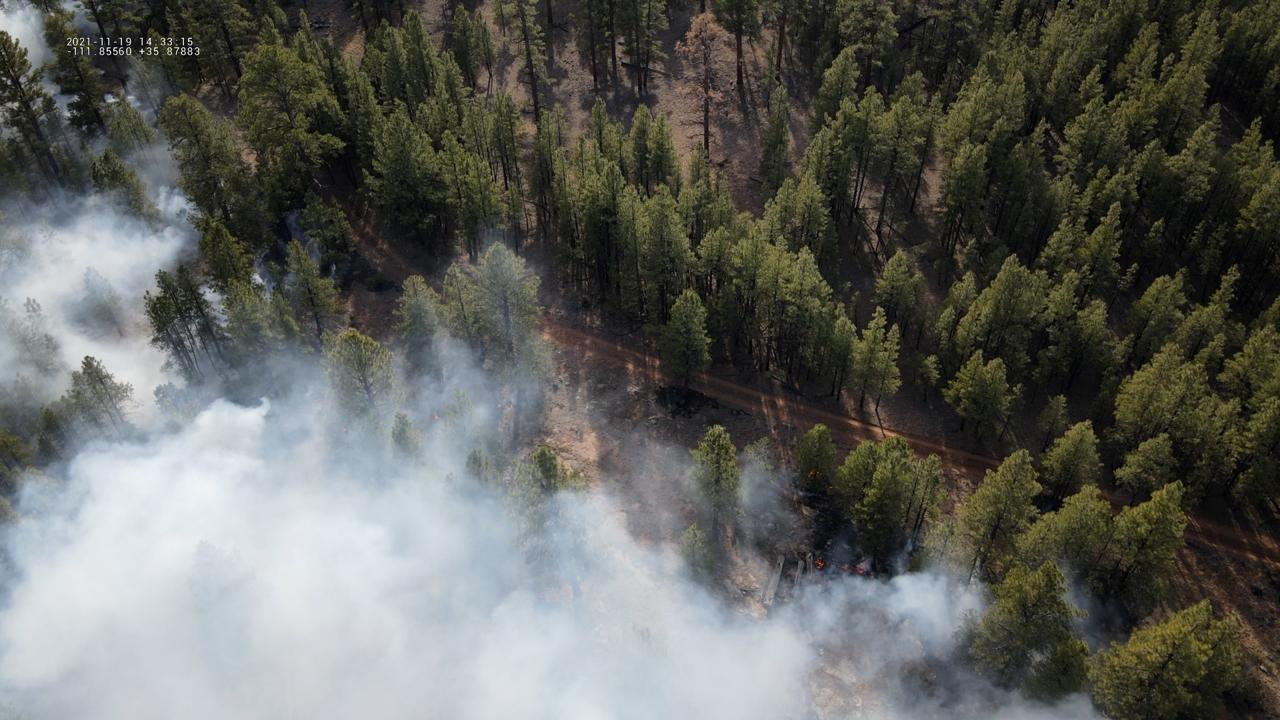fire: (838, 563, 865, 575), (814, 558, 826, 570)
smoke: (0, 0, 1134, 720)
